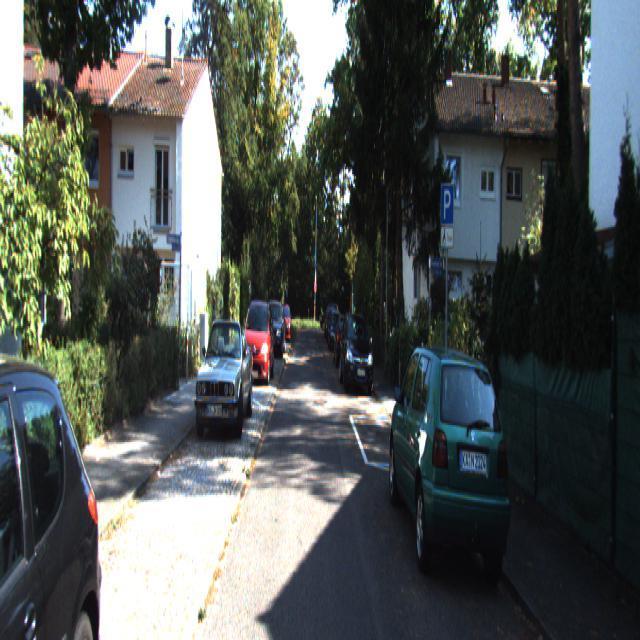Car: (0, 326, 114, 638), (387, 328, 518, 596), (194, 318, 252, 443), (340, 309, 374, 394), (242, 296, 273, 383), (262, 300, 285, 359)
